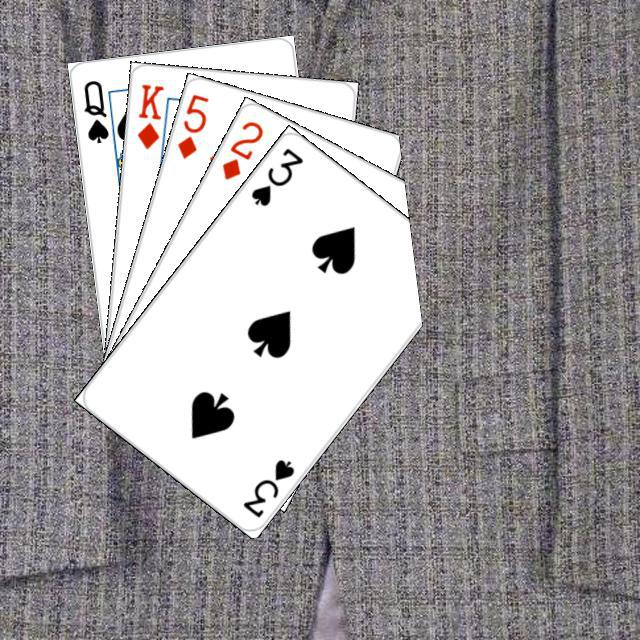2d: (216, 116, 265, 182)
3s: (246, 143, 305, 209), (238, 454, 297, 520)
5d: (172, 89, 211, 161)
Kd: (132, 79, 166, 151)
Qs: (79, 75, 110, 145)
